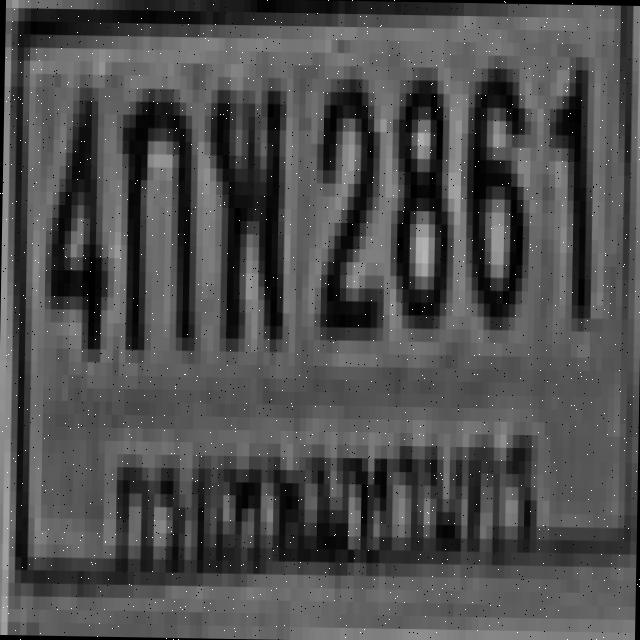1: (546, 50, 588, 312)
10GorGai: (116, 82, 196, 344)
2: (314, 65, 381, 328)
39PhorPan: (204, 76, 284, 338)
4: (44, 74, 104, 348)
6: (462, 55, 522, 317)
8: (390, 67, 450, 316)
Bangkok: (89, 394, 608, 602)
